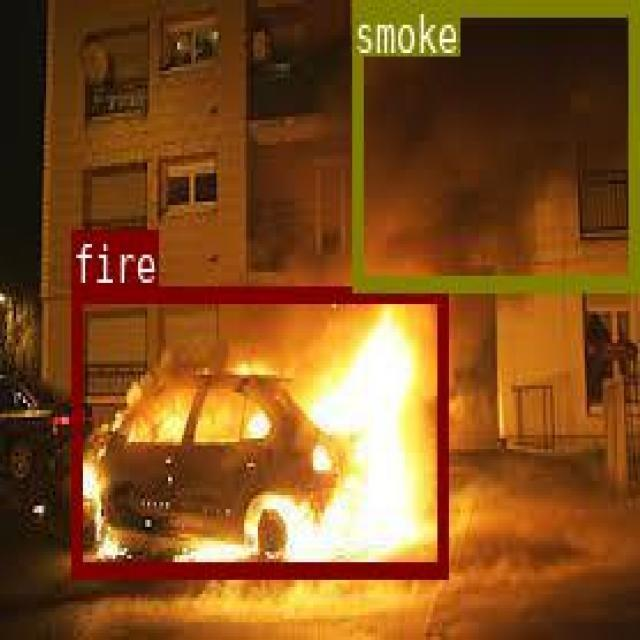fire: (70, 287, 446, 576)
smoke: (349, 0, 635, 286)
